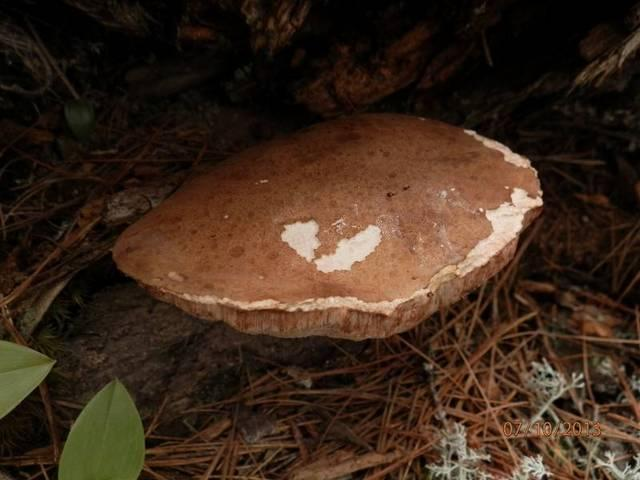poisonous_mushroom: (110, 110, 544, 342)
